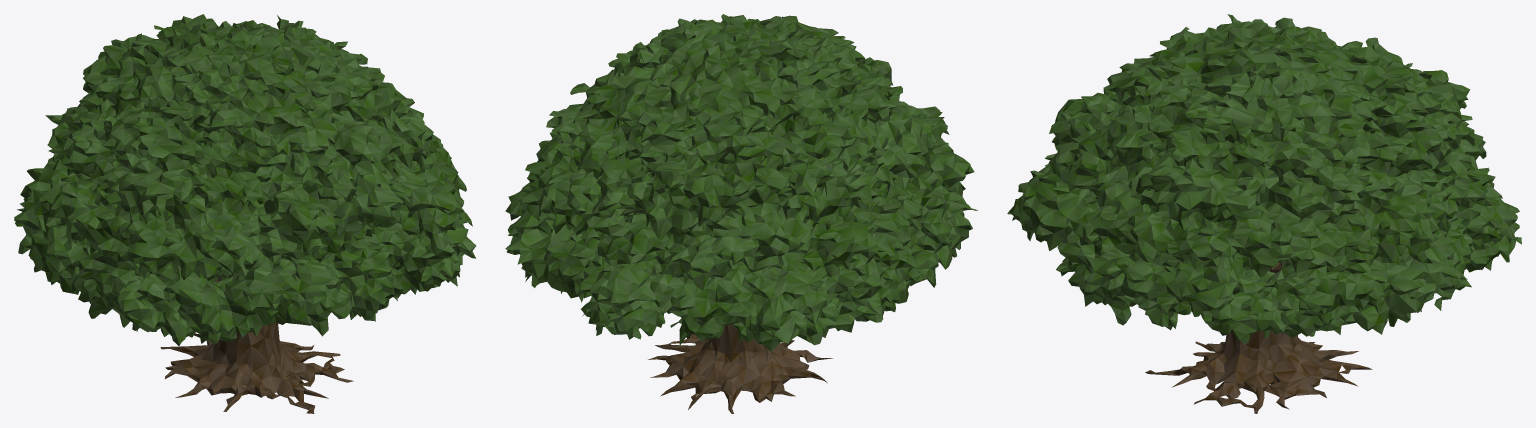
Rendered from walnut_tree.glb.
3 views of the same model, side by side, from view 1: azimuth 30°, elevation 25°; view 2: azimuth 150°, elevation 25°; view 3: azimuth 270°, elevation 25° (orthographic).
Visible parts, largest first — view 1: world; view 2: world; view 3: world.
Boxes of the visible parts, box(x1,y1,x2,y2) form: world: box(14, 14, 476, 413); world: box(505, 14, 977, 413); world: box(1007, 14, 1521, 413).
Size of the model in its own units: 5.27 by 4.5 by 6.27.
